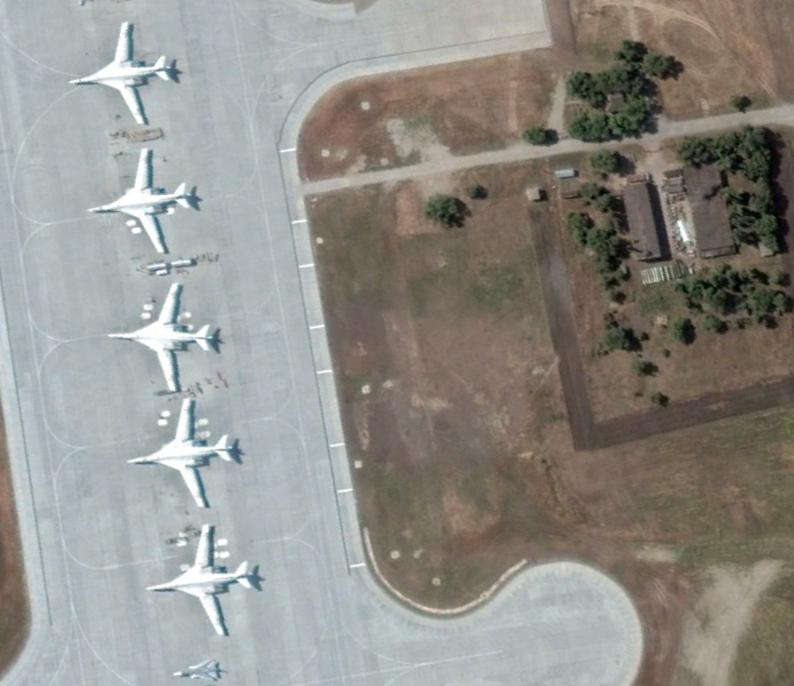A20: (163, 654, 237, 683)
A6: (65, 16, 185, 131), (84, 139, 205, 252), (99, 278, 220, 391), (122, 392, 243, 505), (142, 524, 263, 637)
